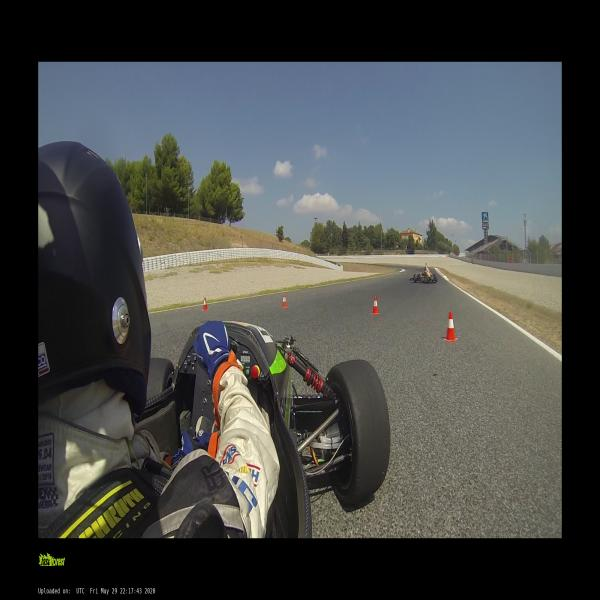orange_cone: (446, 312, 456, 340), (372, 296, 380, 314), (281, 293, 288, 307), (203, 298, 208, 310)
